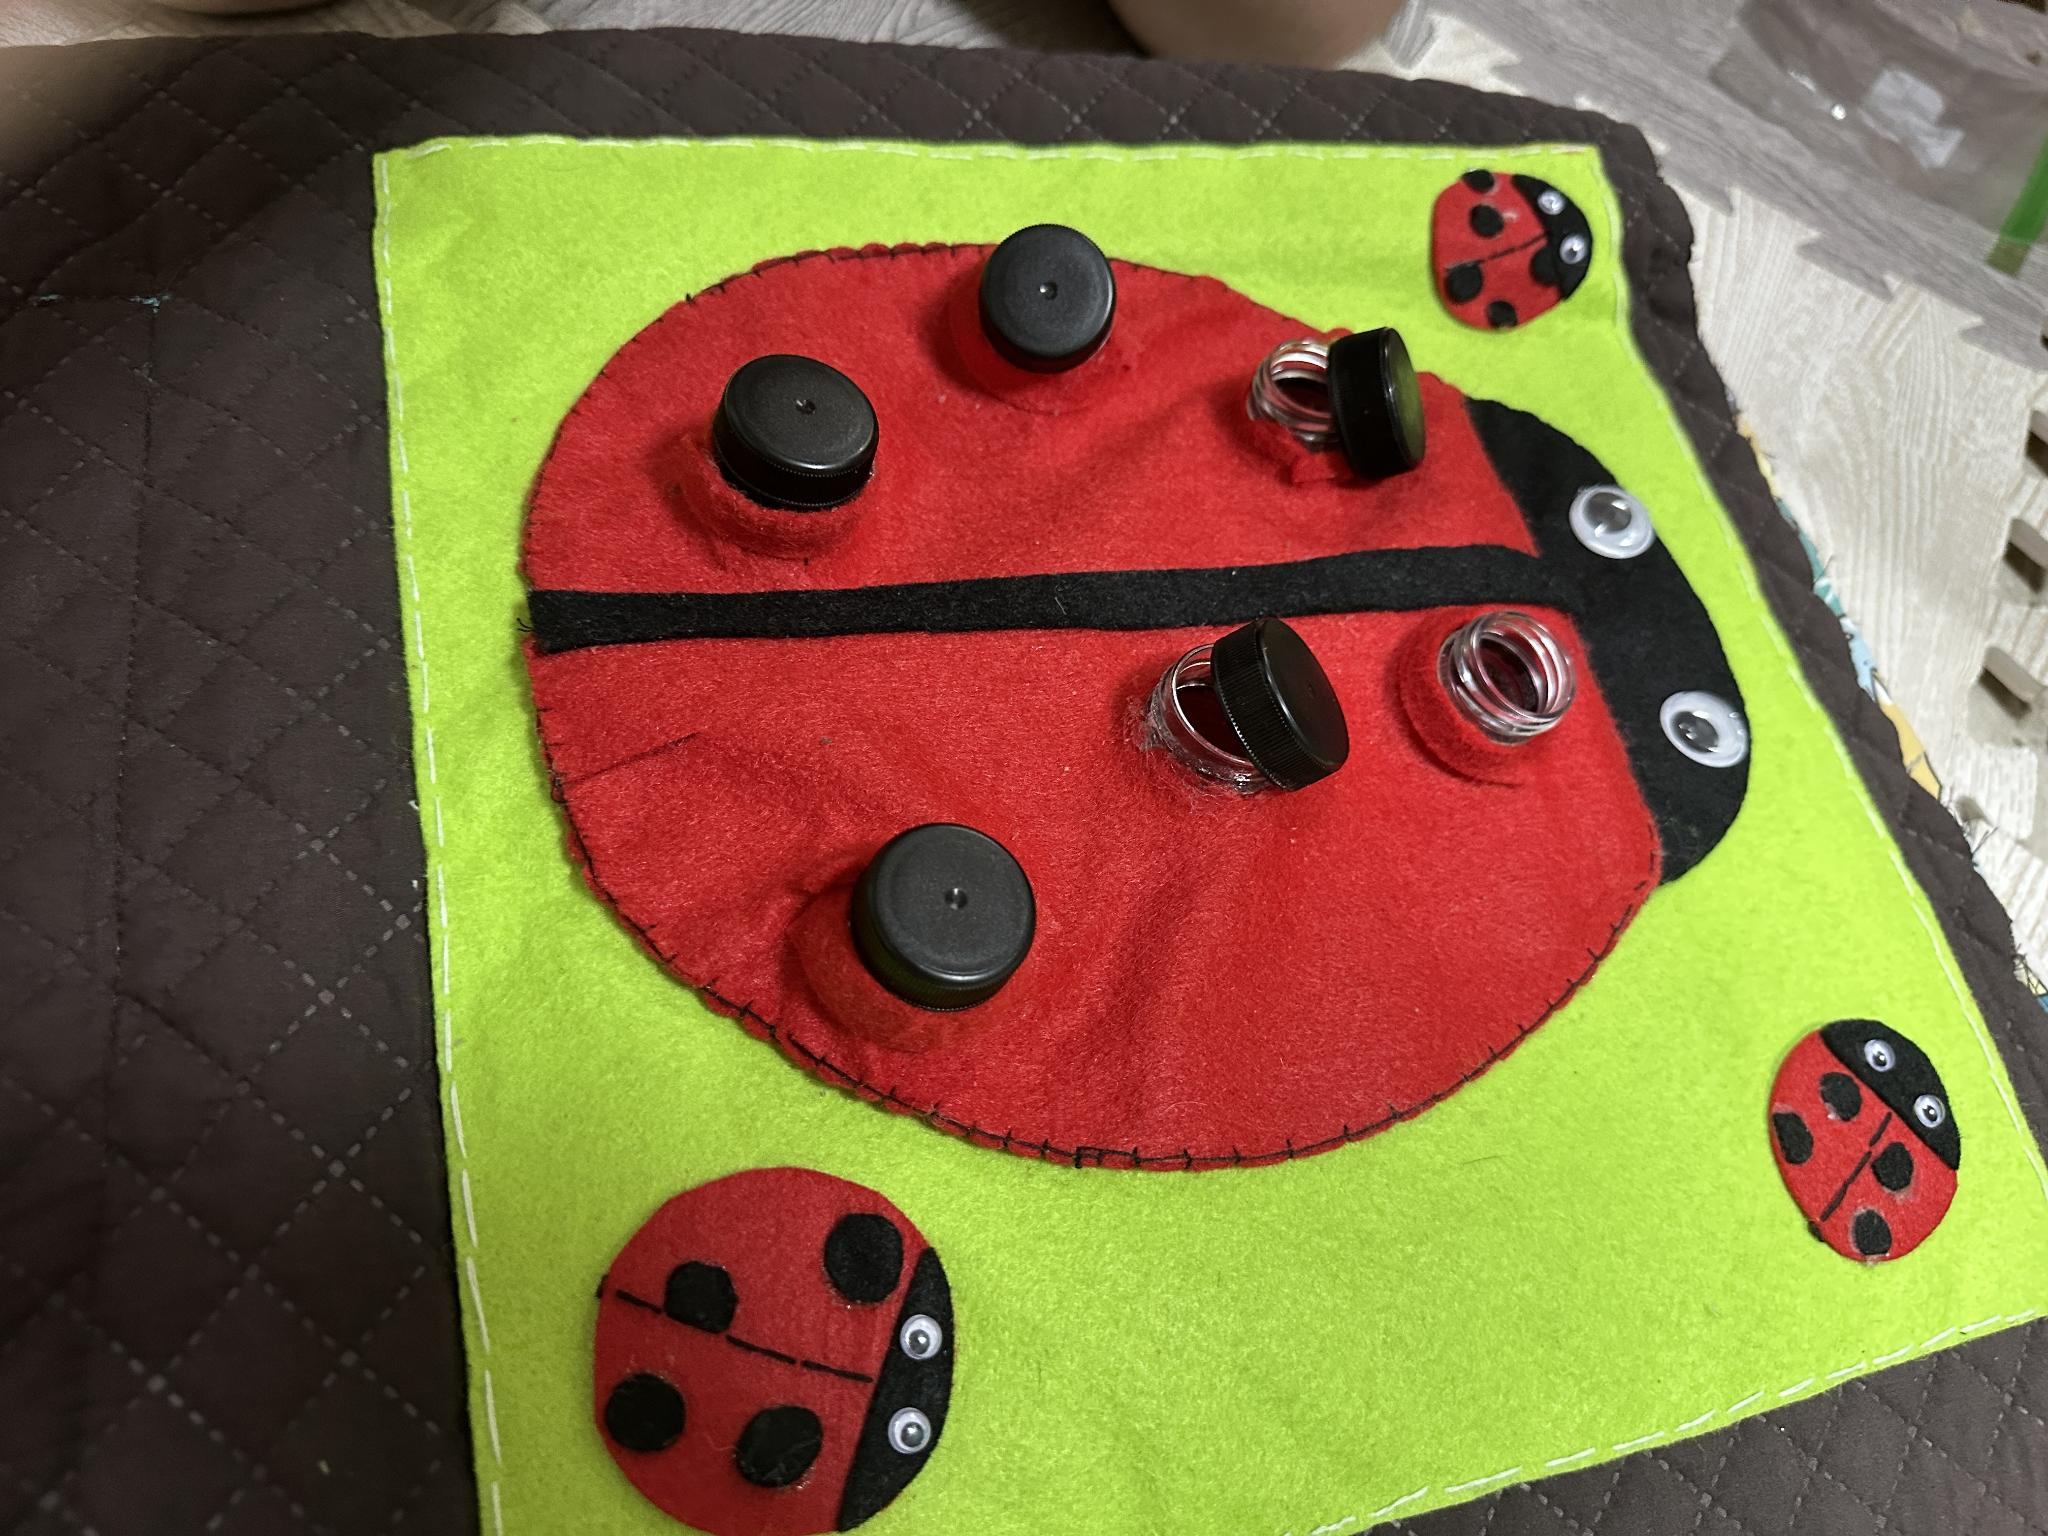cap_ng: (1135, 618, 1385, 816)
cap_ok: (818, 813, 1056, 1033), (1235, 300, 1445, 499), (690, 340, 913, 523), (926, 221, 1143, 395)
